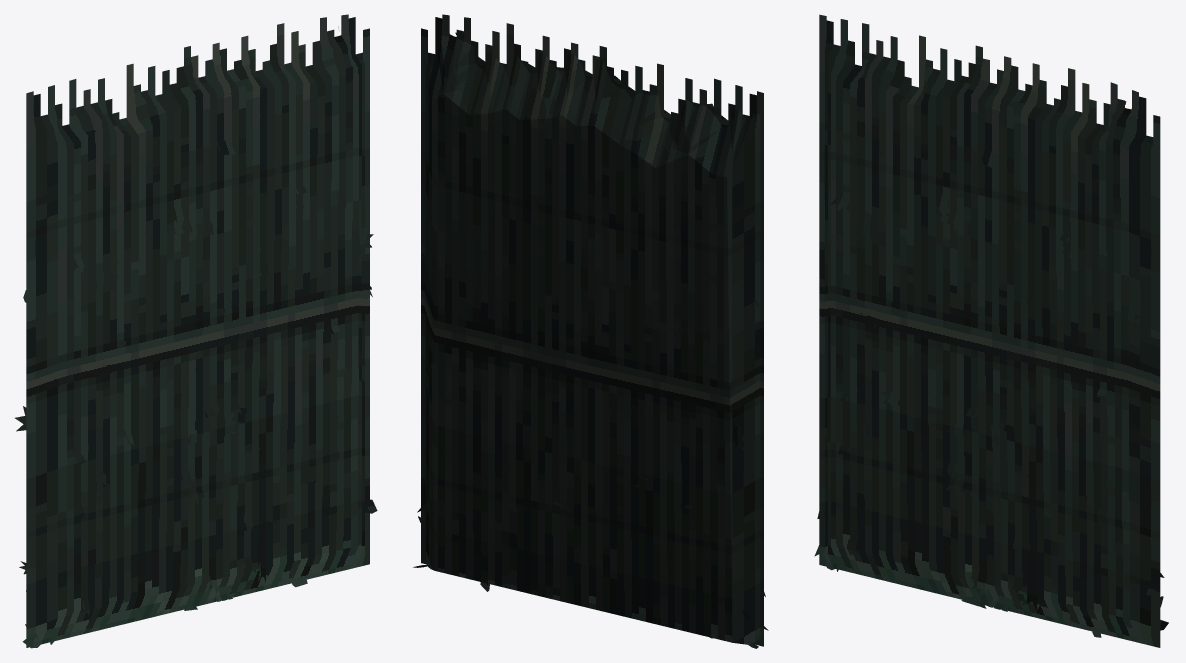
The model's file is fence_501_cut_v19234_far.glb.
3 renders of one model, left to right at view 1: azimuth 30°, elevation 25°; view 2: azimuth 150°, elevation 25°; view 3: azimuth 330°, elevation 25°, orthographic.
Visible parts, largest first — view 1: fence_501_cut_lod1; view 2: fence_501_cut_lod1; view 3: fence_501_cut_lod1.
Part boxes in pixels (x1,y1,x2,y2): fence_501_cut_lod1: [15, 14, 377, 648]; fence_501_cut_lod1: [413, 14, 768, 648]; fence_501_cut_lod1: [814, 14, 1168, 647].
Size of the model in its own units: 1.06 by 1.59 by 0.2046.
1 material, 1 textured.
